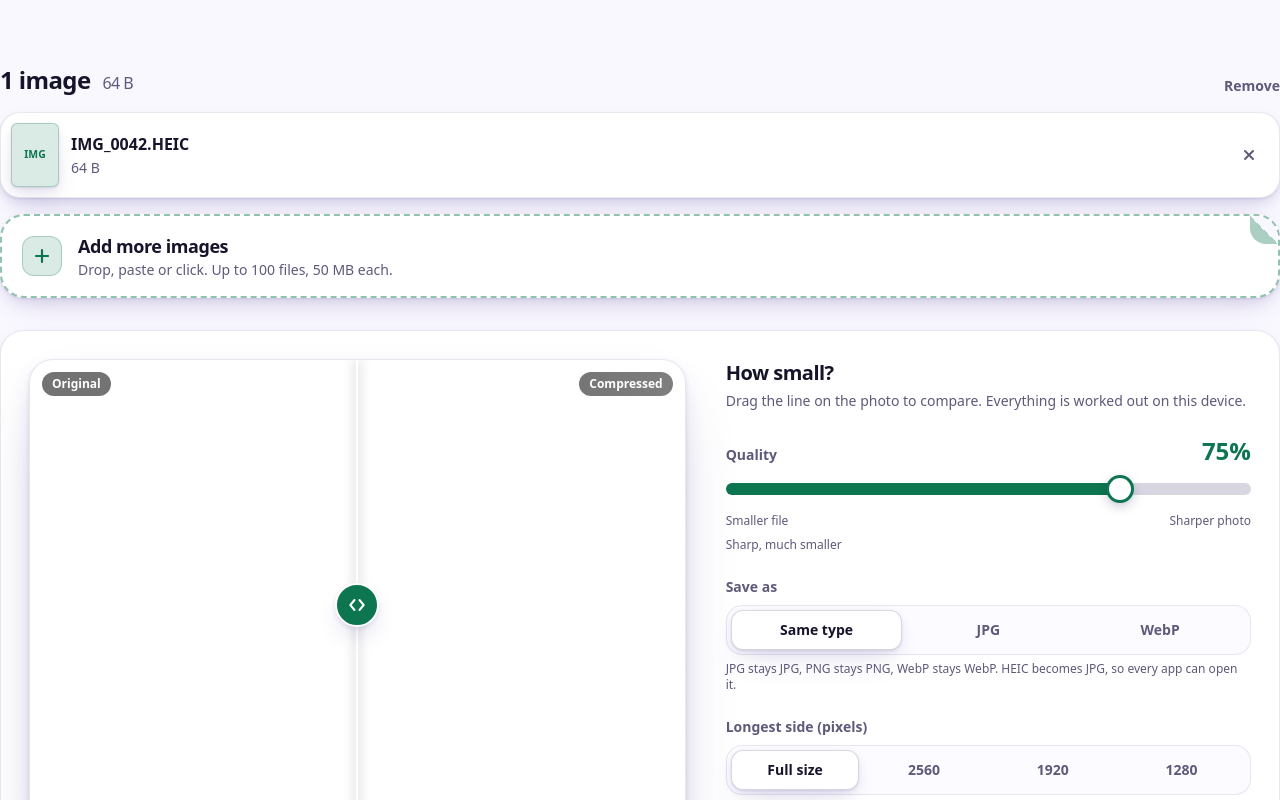
it: CompressImageTool › takes HEIC photos, fetches the decoder early and says they become JPG
The image size is (1280, 800).
Earlier steps of the test are not shown.
Later steps or results of the test are not shown.
Expected: the text "HEIC becomes JPG" is shown, x1=726 y1=660 x2=1238 y2=693
Click the radio button labelled "WebP": click(1160, 630) x1=1140 y1=620 x2=1180 y2=639
(page scrolled)
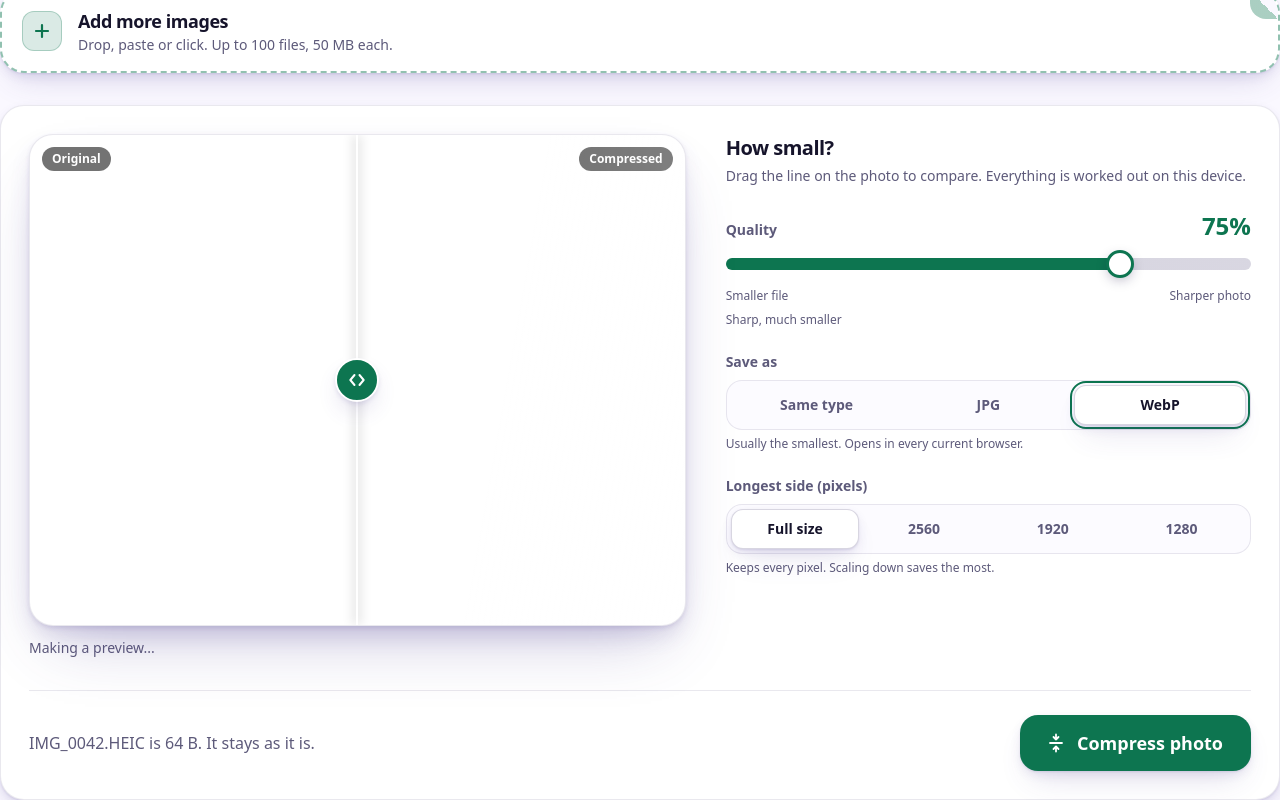
Expected: the text "HEIC becomes JPG" is gone
